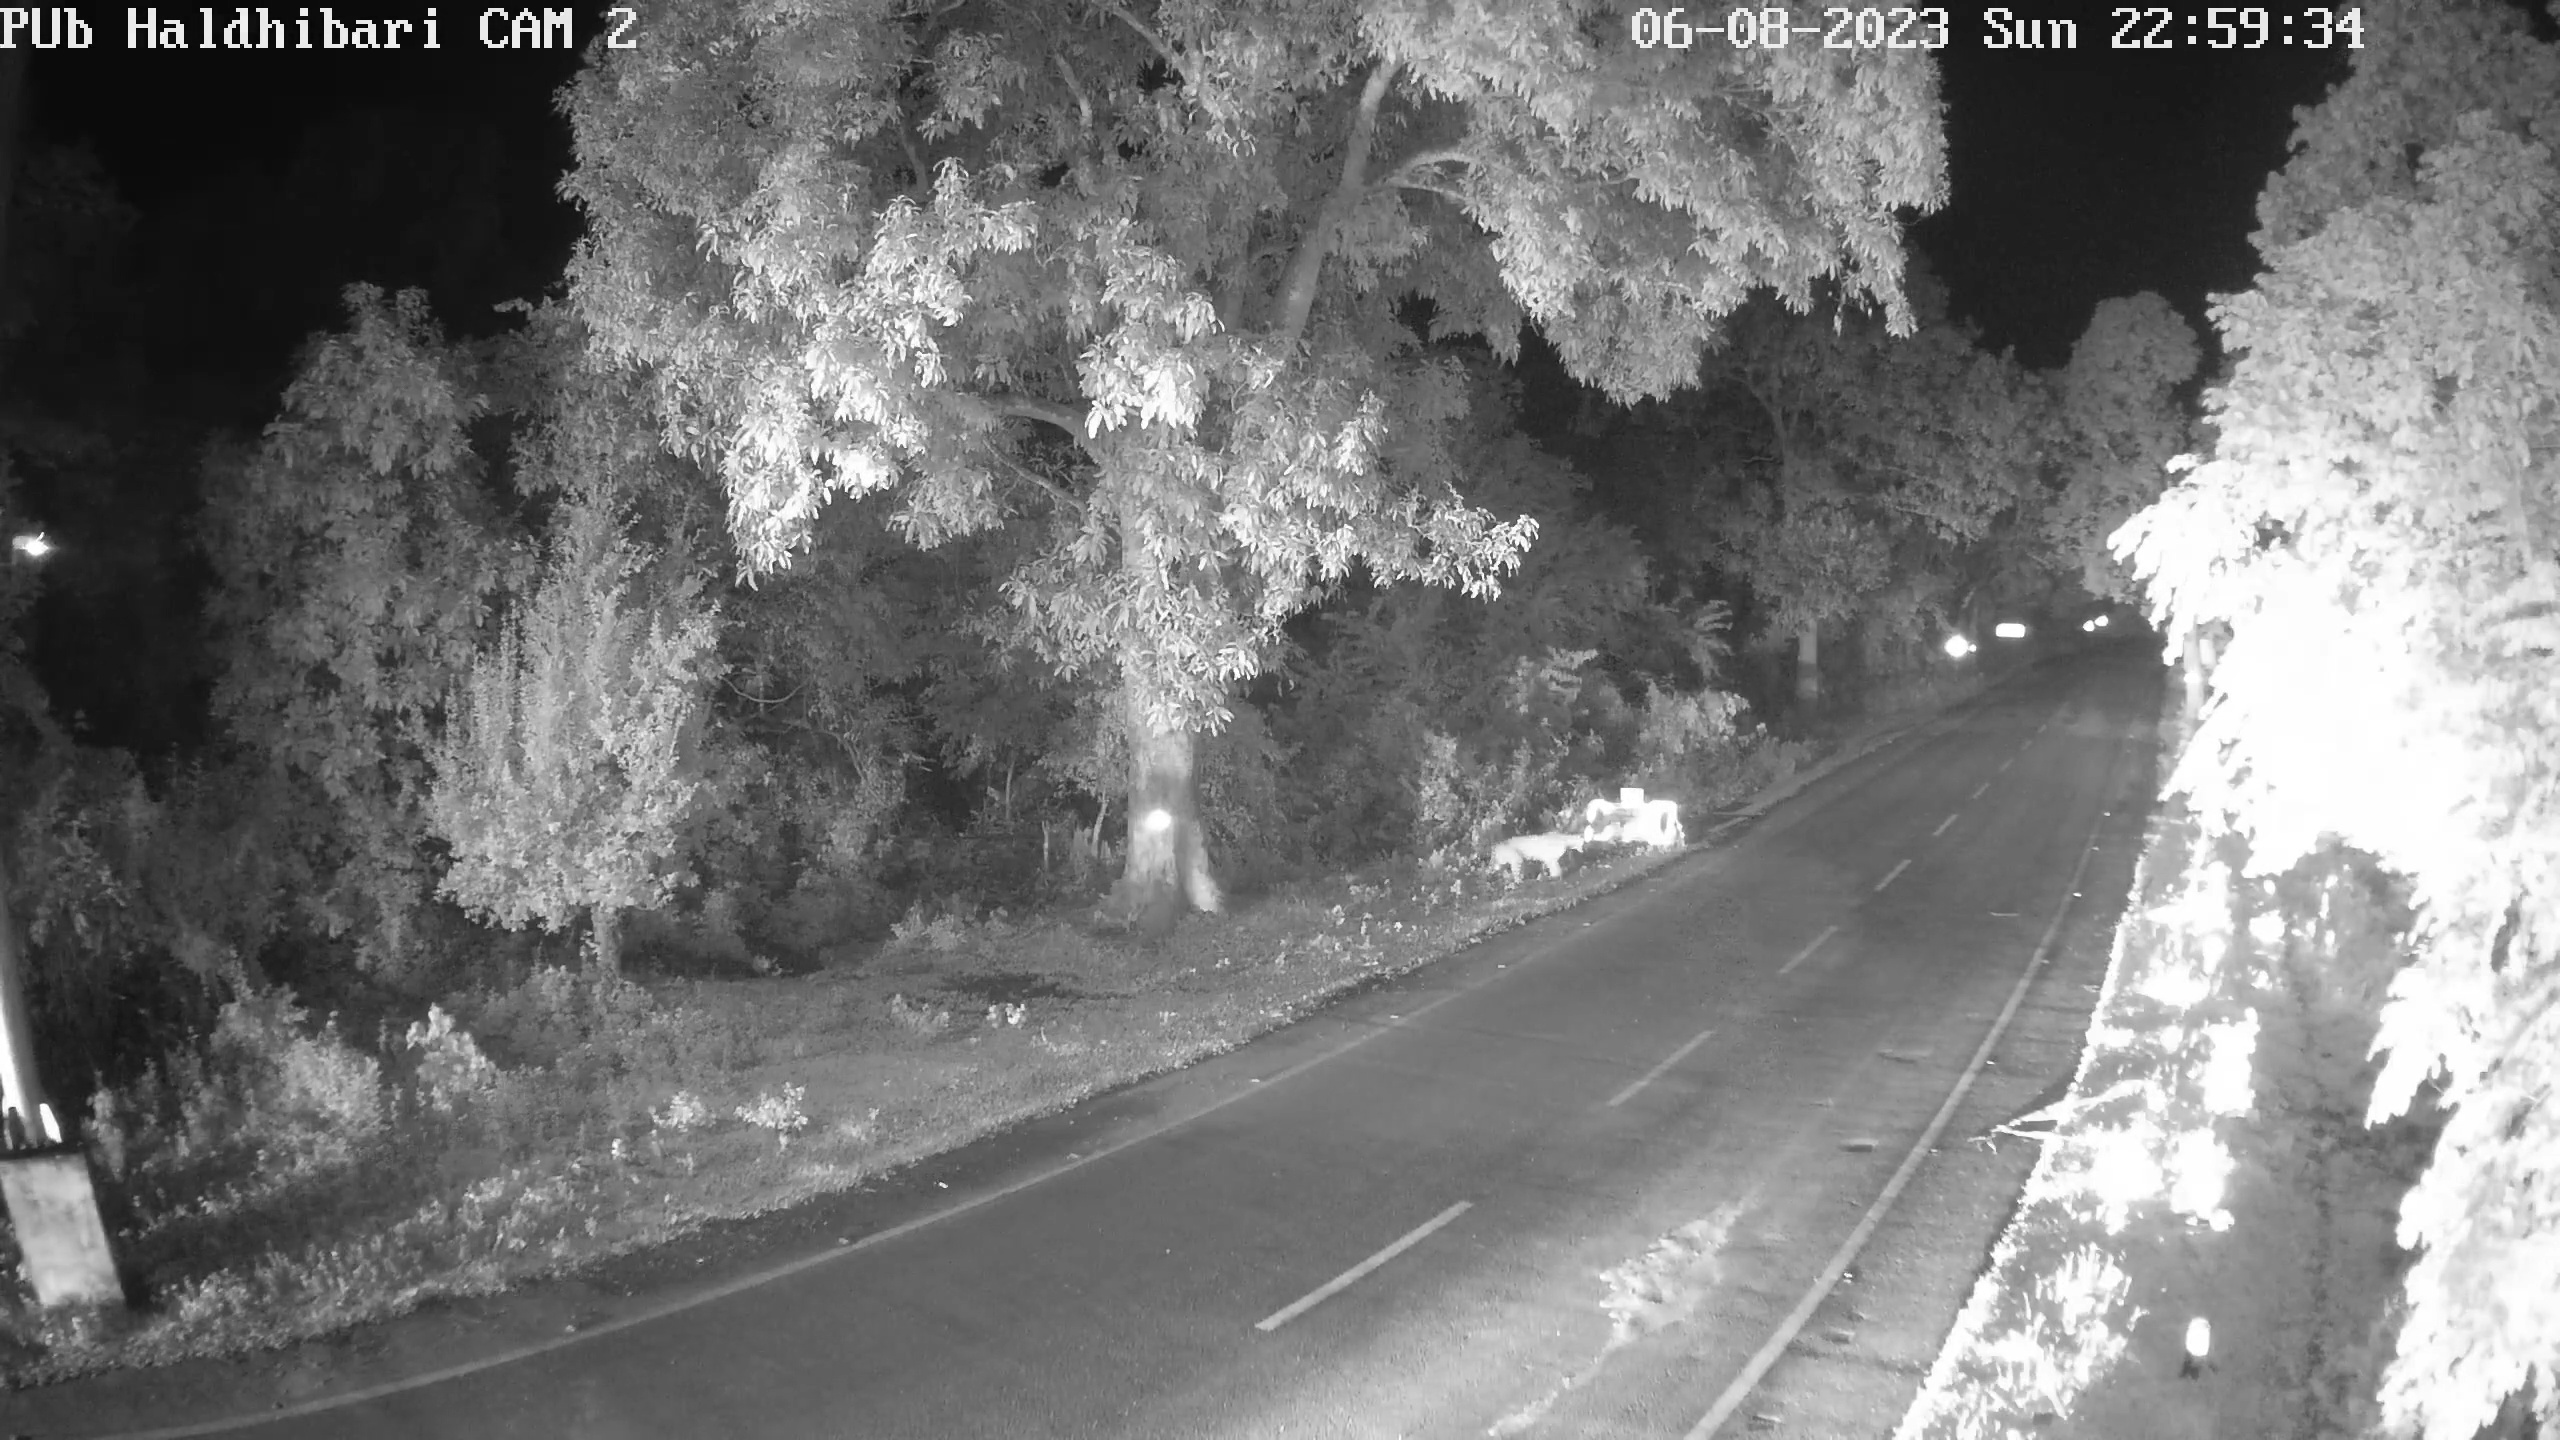tigers: (1489, 825, 1591, 877)
